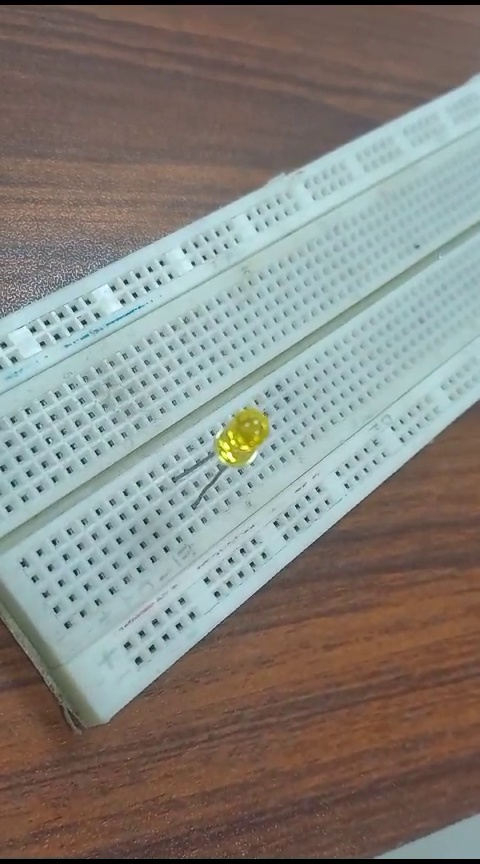LED: (175, 404, 266, 508)
